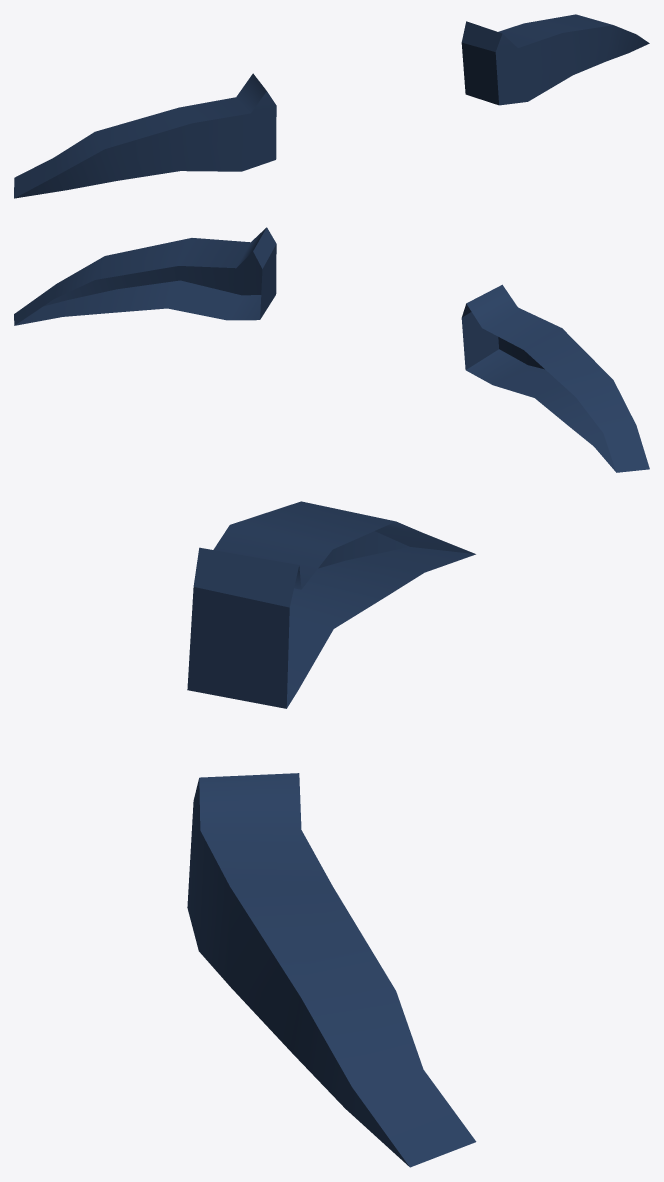
File: Brow_Blue_3.fbx
3 renders of one model, top to bottom at view 1: azimuth 30°, elevation 25°; view 2: azimuth 150°, elevation 25°; view 3: azimuth 270°, elevation 25°, orthographic. The views are drawn at different scales.
Parts seen in each view (by area): view 1: Brow_Blue_3; view 2: Brow_Blue_3; view 3: Brow_Blue_3.
Part boxes in pixels (<box>): Brow_Blue_3: <box>14,14,649,198</box>; Brow_Blue_3: <box>14,227,649,472</box>; Brow_Blue_3: <box>187,501,476,1167</box>.
Size of the model in its own units: 32.72 by 4.78 by 6.44.
